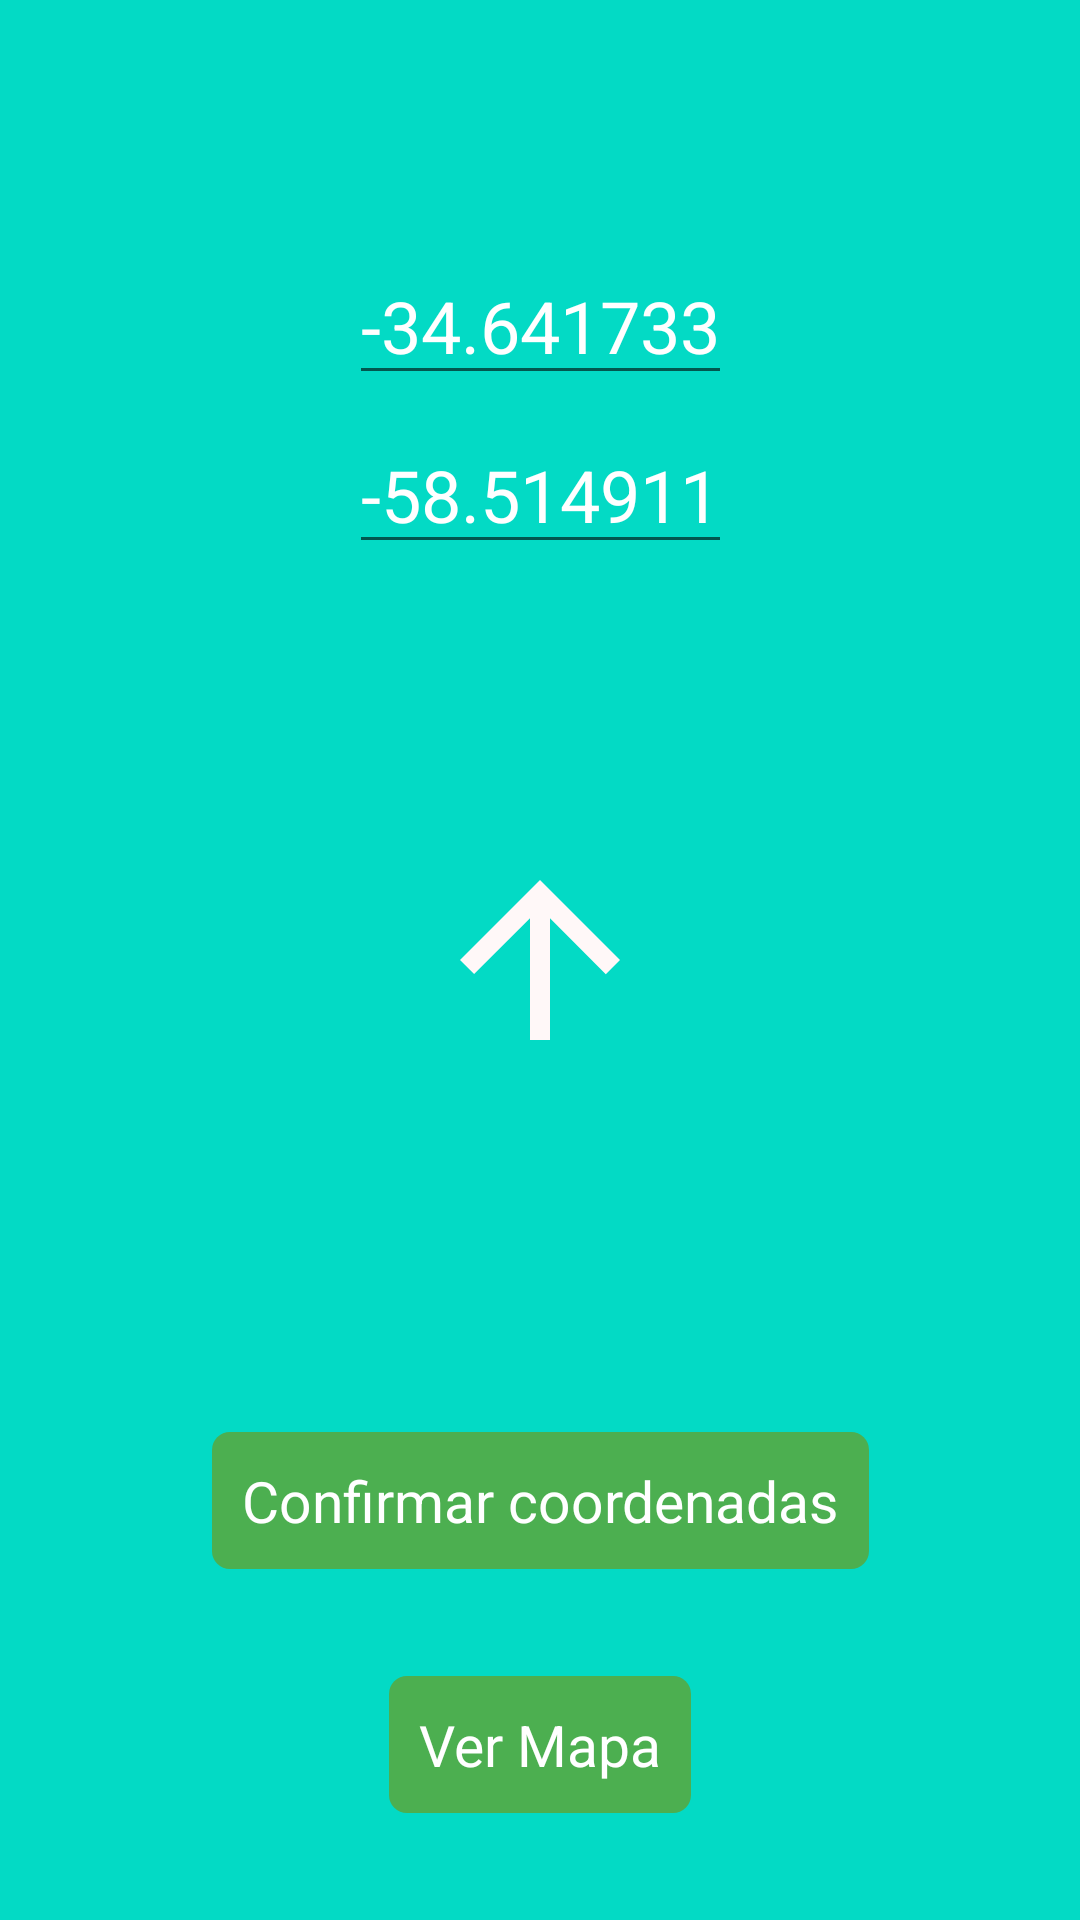

Named icons in this screenshot (1080w x 1920h) and their centers, (x,y):
arrow up: (540,960)
